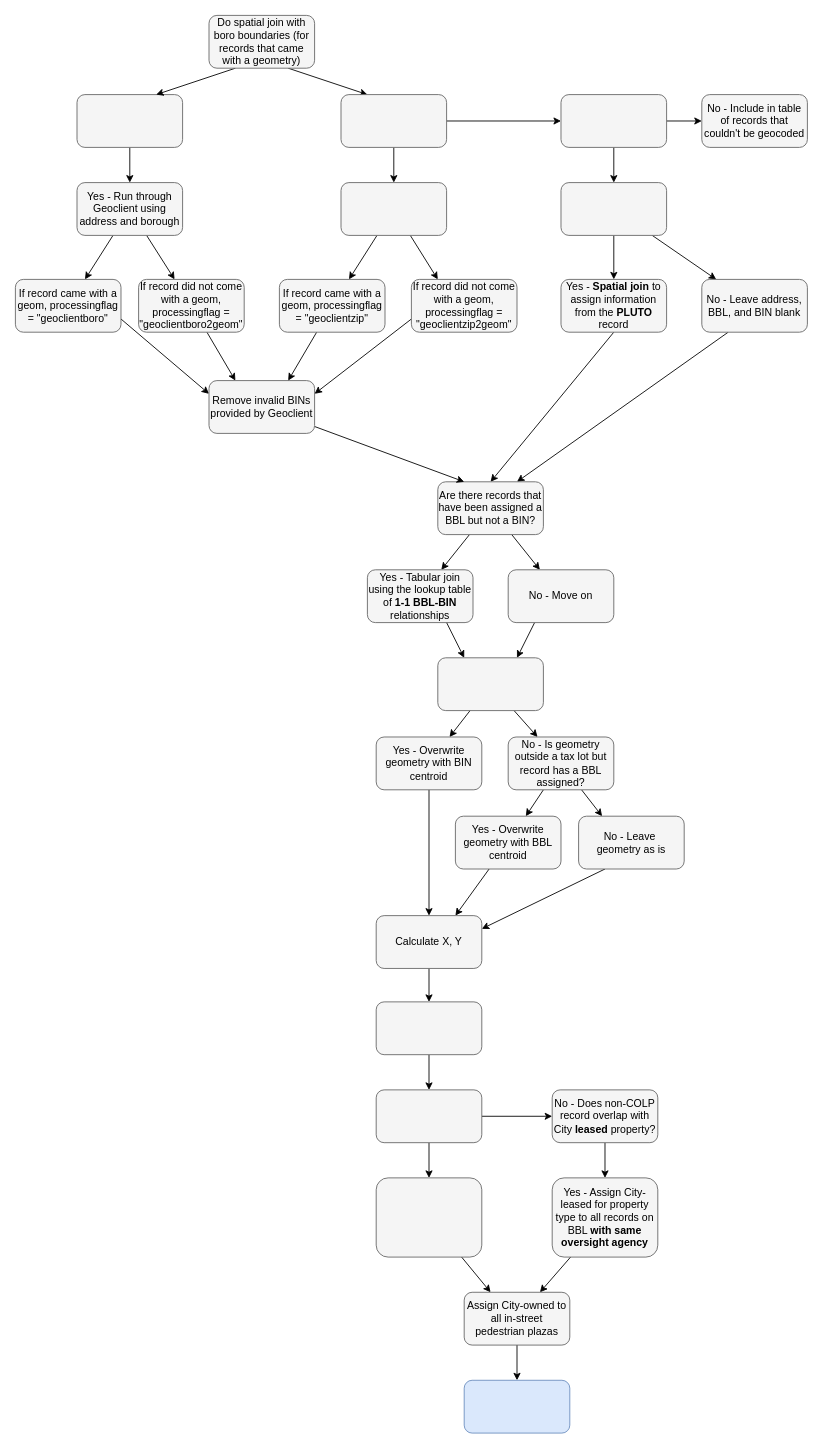
The diagram is 823 pixels wide and 1448 high, and some of its shapes have lost their labels. The box of each missing label's shape, as (x1, y1, x2, y2) in pixels:
Does non-COLP record overlap with a City owned property?: (375, 1089, 482, 1143)
Does record have a BIN?: (437, 657, 543, 711)
Does record have an address and boro ?: (76, 94, 183, 147)
Does record not have boro but does have address and z ip code ?: (340, 94, 447, 147)
Move on to Deduping scripts: (463, 1379, 570, 1433)
No - Did it come with a geometry?: (560, 94, 667, 147)
Spatial join with CD, NTA, Council, and USPS Zip Code: (375, 1001, 482, 1055)
Yes - Assign City-owned for property type to all records on BBL: (375, 1177, 482, 1257)
Yes - Is address invalid but geom overlaps with a PLUTO lot?: (560, 182, 667, 235)
Yes - Run through G eoclient using address and zip code: (340, 182, 447, 235)
